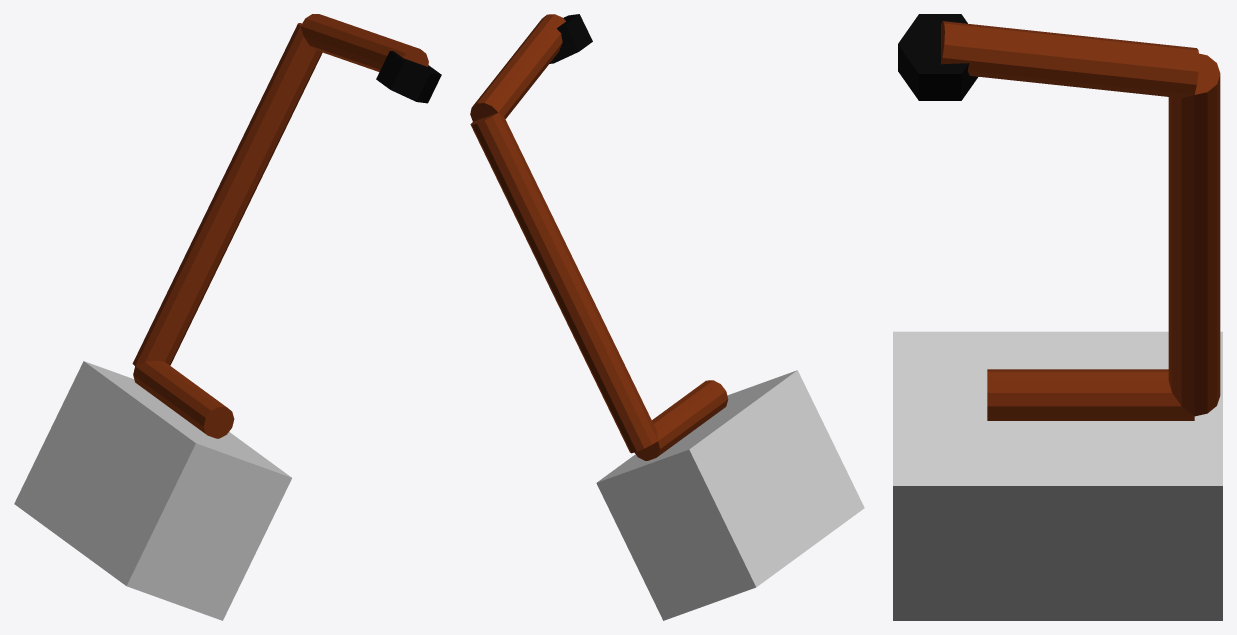
The model's file is earthing_ok.obj.
3 renders of one model, left to right at view 1: azimuth 30°, elevation 25°; view 2: azimuth 150°, elevation 25°; view 3: azimuth 270°, elevation 25°, orthographic. The views are drawn at different scales.
Parts seen in each view (by area): view 1: earthing_ok; view 2: earthing_ok; view 3: earthing_ok.
Part boxes in pixels (left/top/right/bottom): earthing_ok: left=14, top=14, right=441, bottom=620; earthing_ok: left=470, top=14, right=864, bottom=620; earthing_ok: left=893, top=14, right=1222, bottom=620.
Size of the model in its own units: 0.2331 by 0.3496 by 0.14.
